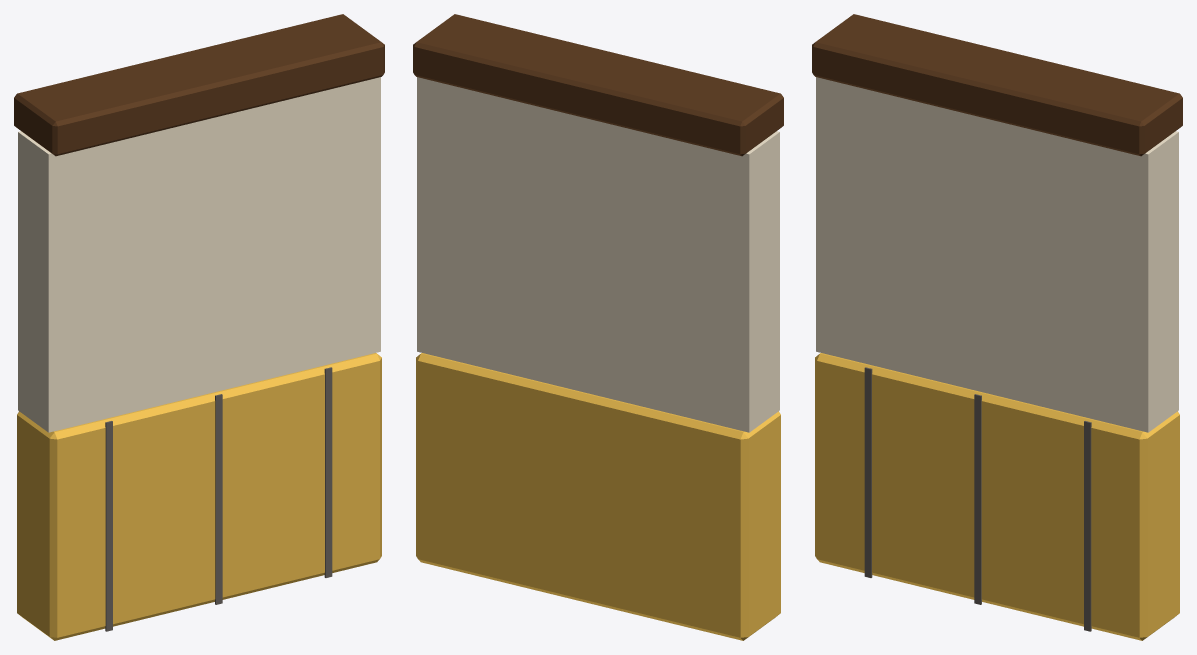
Rendered from PR_Building_Duvar_Altin.fbx.
The picture shows the model from 3 angles, left to right: view 1: azimuth 30°, elevation 25°; view 2: azimuth 150°, elevation 25°; view 3: azimuth 330°, elevation 25°; orthographic projection.
Parts seen in each view (by area): view 1: PR_Building_Duvar_Altin; view 2: PR_Building_Duvar_Altin; view 3: PR_Building_Duvar_Altin.
Part boxes in pixels (bbox=[...]): PR_Building_Duvar_Altin: bbox=[14, 14, 384, 640]; PR_Building_Duvar_Altin: bbox=[413, 14, 783, 640]; PR_Building_Duvar_Altin: bbox=[812, 14, 1182, 640].
Bounding box in the file's own units: 1 × 1.5 × 0.22.
